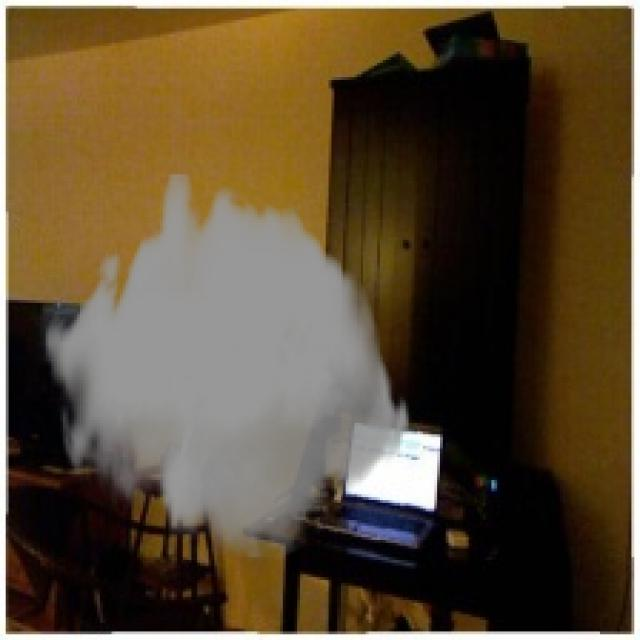smoke: (43, 174, 411, 557)
